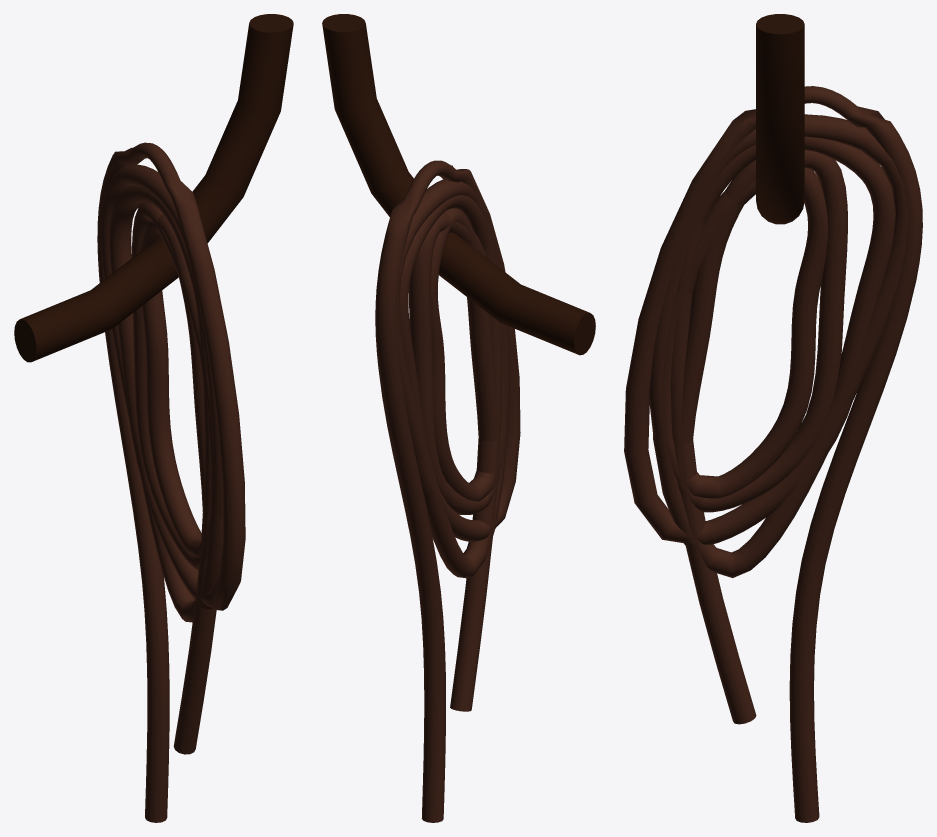
The model's file is Hanging Rope and Holder.FBX.
The picture shows the model from 3 angles, left to right: view 1: azimuth 30°, elevation 25°; view 2: azimuth 150°, elevation 25°; view 3: azimuth 270°, elevation 25°; orthographic projection. The views are drawn at different scales.
Visible parts, largest first — view 1: Hanging Rope, Rope Holder; view 2: Hanging Rope, Rope Holder; view 3: Hanging Rope, Rope Holder.
Part boxes in pixels (x1=…): Hanging Rope: x1=97, y1=142, x2=245, y2=822; Rope Holder: x1=14, y1=14, x2=293, y2=362; Hanging Rope: x1=375, y1=160, x2=520, y2=822; Rope Holder: x1=322, y1=14, x2=595, y2=355; Hanging Rope: x1=624, y1=86, x2=922, y2=822; Rope Holder: x1=756, y1=14, x2=804, y2=224.
Bounding box in the file's own units: 0.1372 × 0.3851 × 0.1228.
